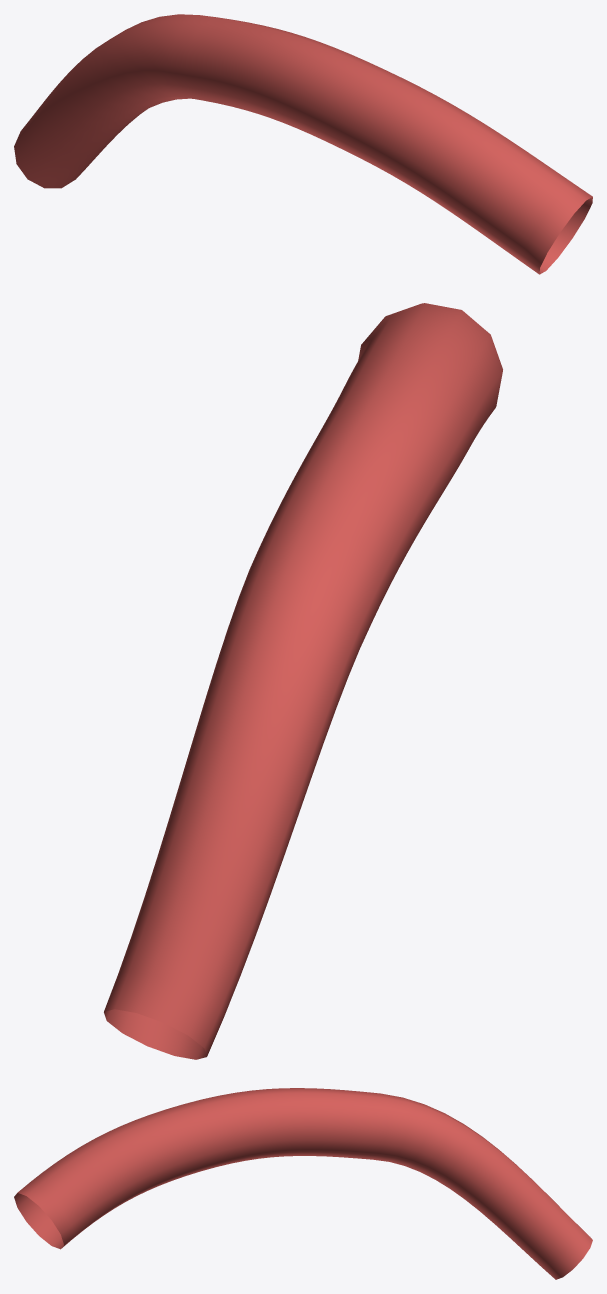
The picture shows the model from 3 angles, top to bottom: view 1: azimuth 30°, elevation 25°; view 2: azimuth 150°, elevation 25°; view 3: azimuth 270°, elevation 25°; orthographic projection. The views are drawn at different scales.
Parts seen in each view (by area): view 1: 右侧髂外动脉; view 2: 右侧髂外动脉; view 3: 右侧髂外动脉.
Part boxes in pixels (<box>): 右侧髂外动脉: <box>14,14,592,274</box>; 右侧髂外动脉: <box>104,303,502,1059</box>; 右侧髂外动脉: <box>14,1088,592,1279</box>.
Bounding box in the file's own units: 0.0515 × 0.0551 × 0.1407.
